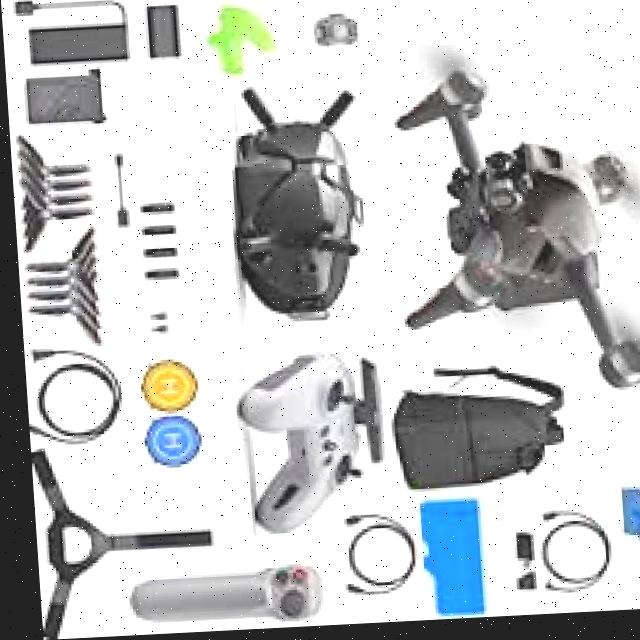drone: (360, 56, 640, 422)
